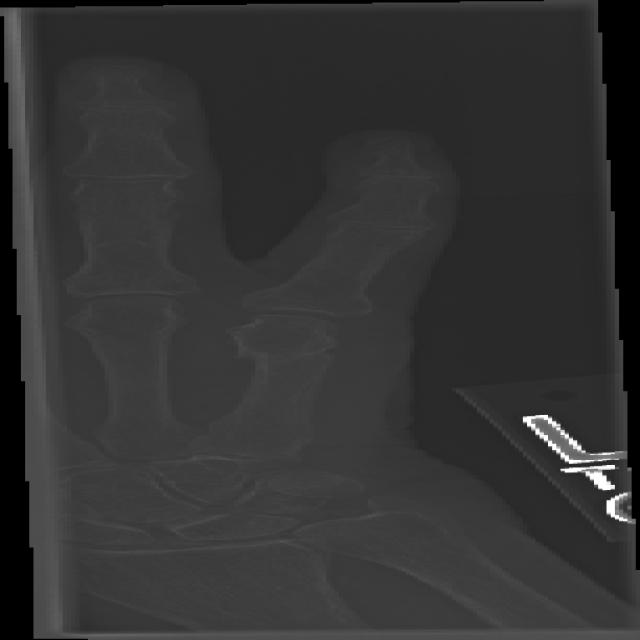fingers positive: (208, 331, 390, 385)
